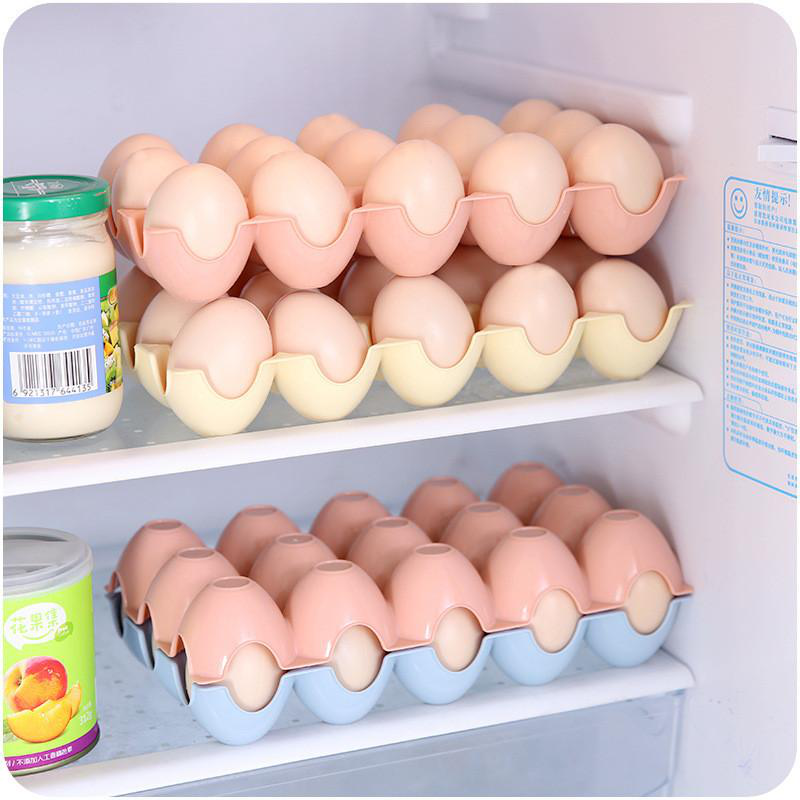egg: (119, 461, 695, 739), (108, 90, 665, 252), (118, 259, 678, 396)
